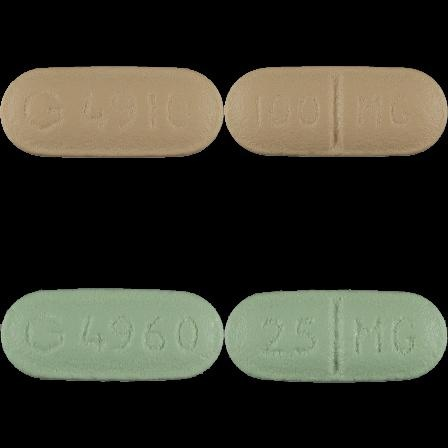43063-213: (0, 0, 224, 224)
